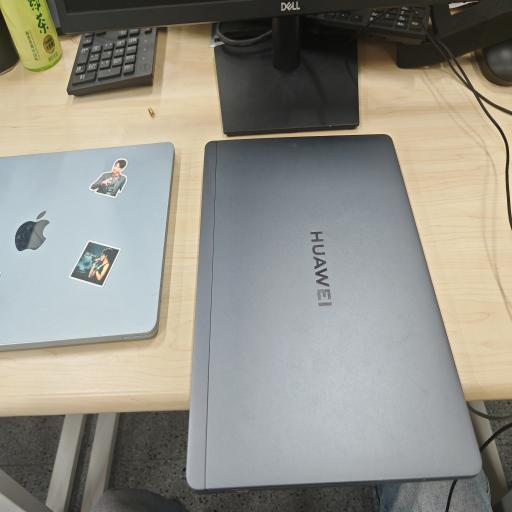laptop: (186, 135, 482, 492), (0, 143, 174, 350)
mouse: (475, 38, 512, 86)
